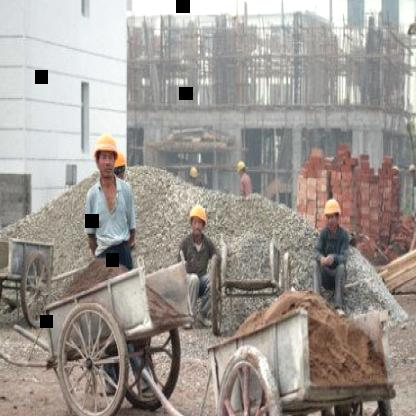helmet: (90, 130, 122, 184), (320, 194, 344, 234), (184, 203, 209, 240), (111, 147, 127, 185), (232, 159, 248, 182)
